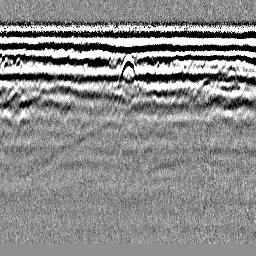cavity: (117, 55, 139, 87)
